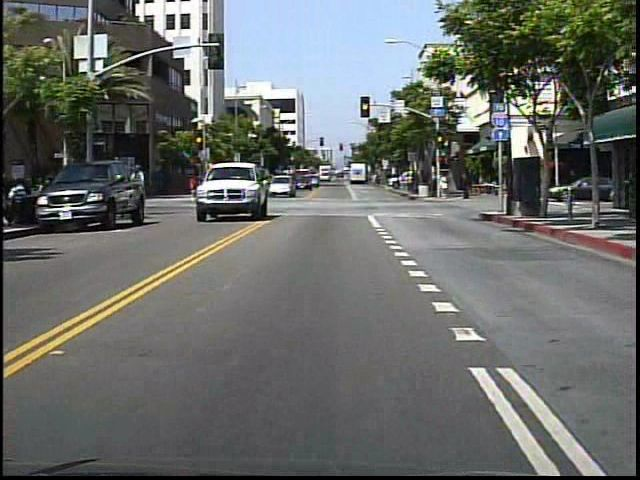person: (130, 164, 151, 204), (458, 171, 473, 204), (189, 173, 201, 199), (439, 174, 450, 199)
